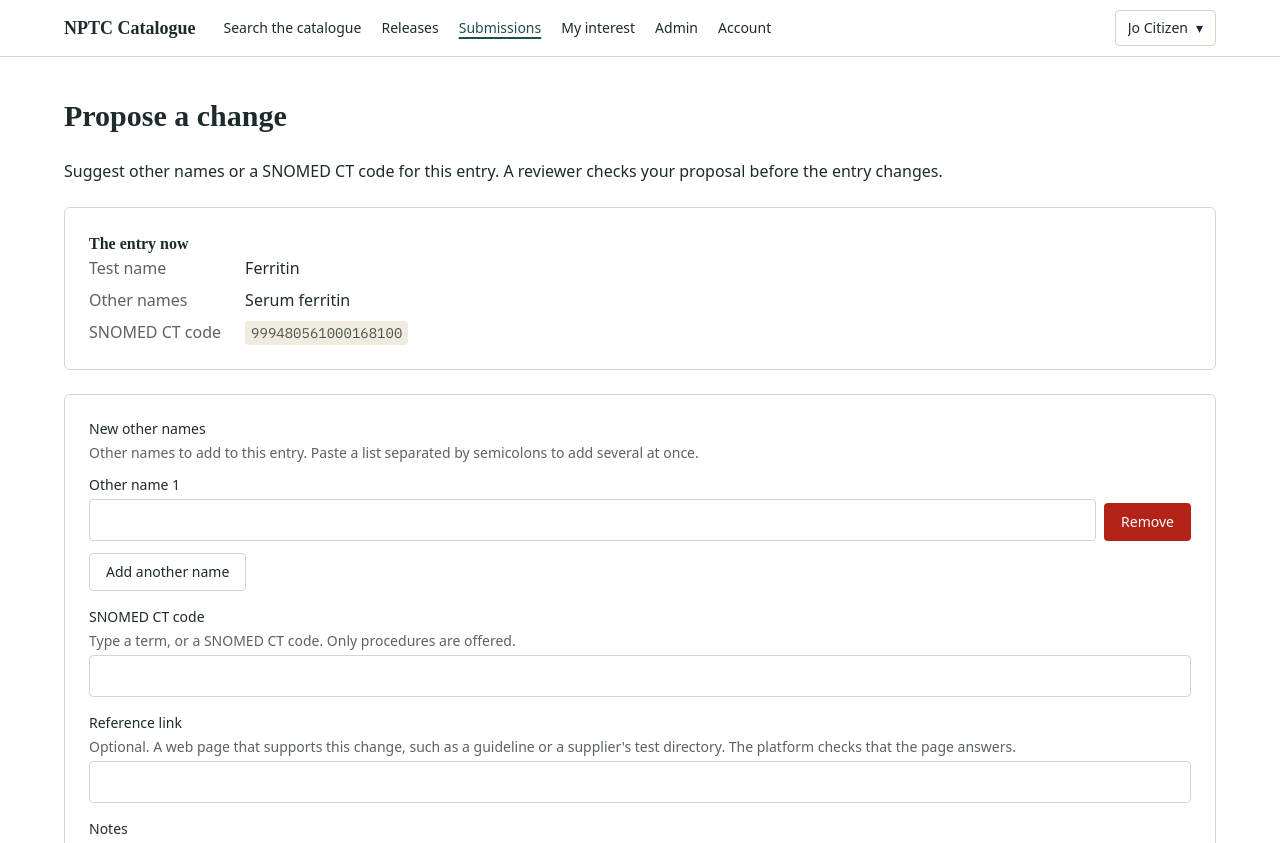
Test case: sending an amendment (FR-35) › sends the picked code as a string the terminology server named (FR-06, FR-26)
Expected: the field labelled "Other name 1" is shown, x1=89 y1=498 x2=1096 y2=540
Type "micro" into the dropdown labelled "SNOMED CT code" at (640, 676), box x1=89 y1=654 x2=1191 y2=696
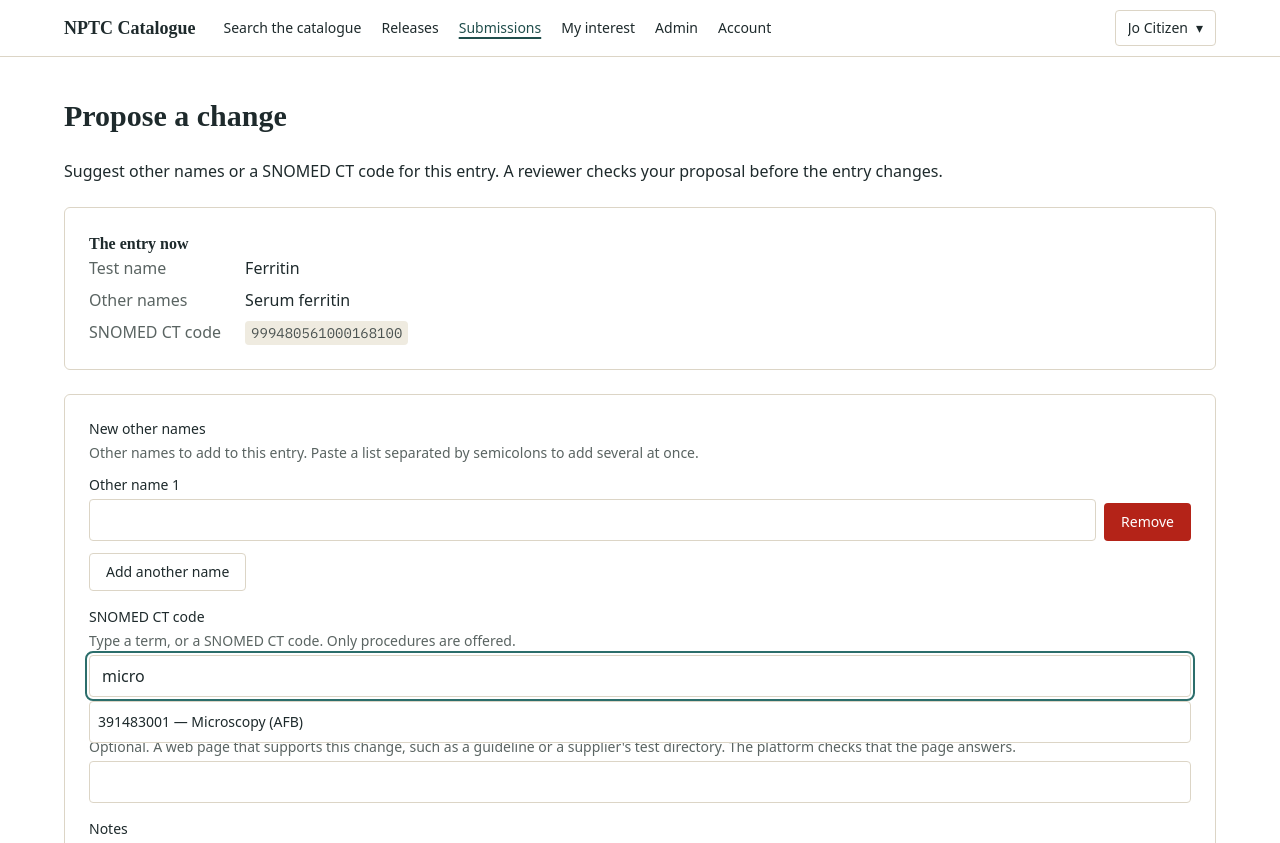
Click the option "391483001 — Microscopy (AFB)" at (201, 722), box x1=98 y1=712 x2=303 y2=731
(page scrolled)
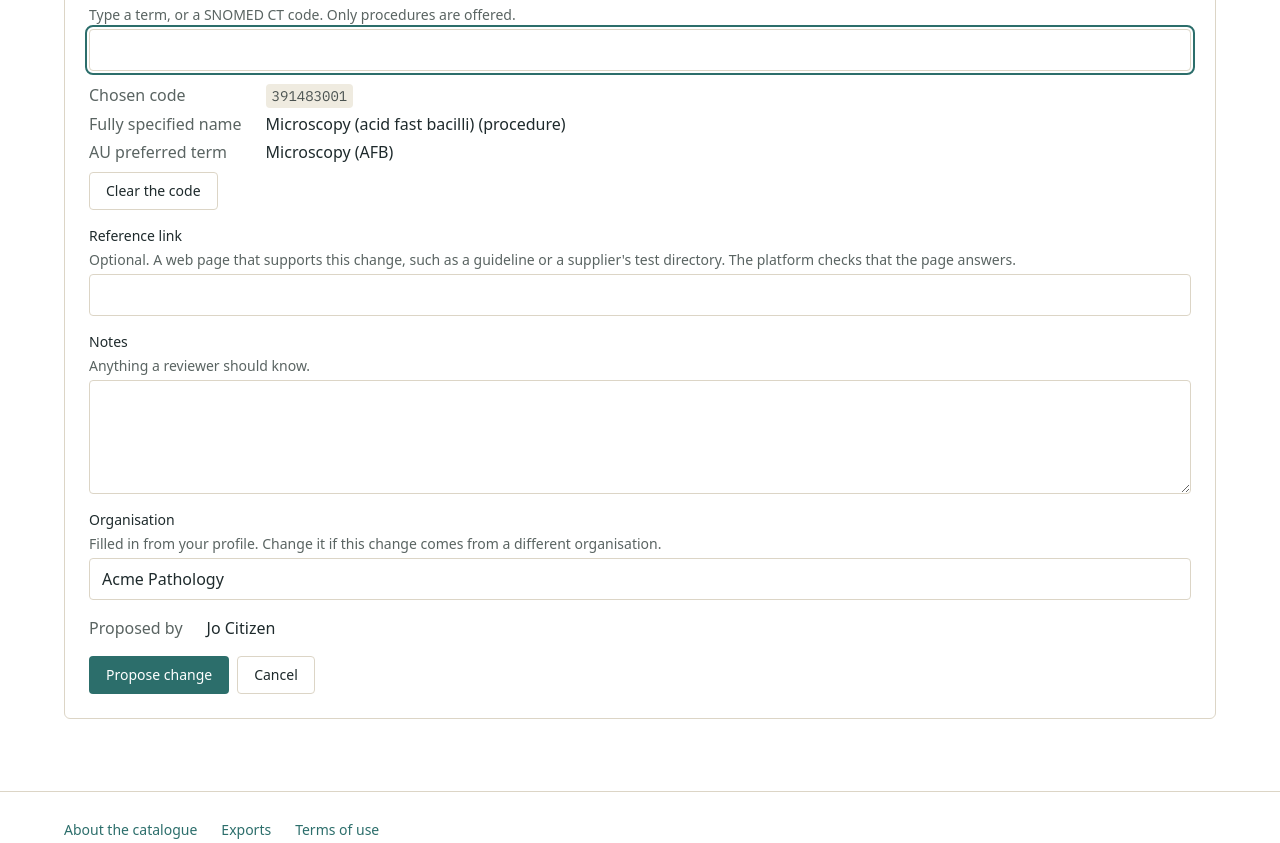
Result: the text "Microscopy (acid fast bacilli) (procedure)" is shown at x1=266 y1=112 x2=566 y2=134
Click the button "Propose change" at (159, 674), box x1=89 y1=656 x2=229 y2=694
(page scrolled)
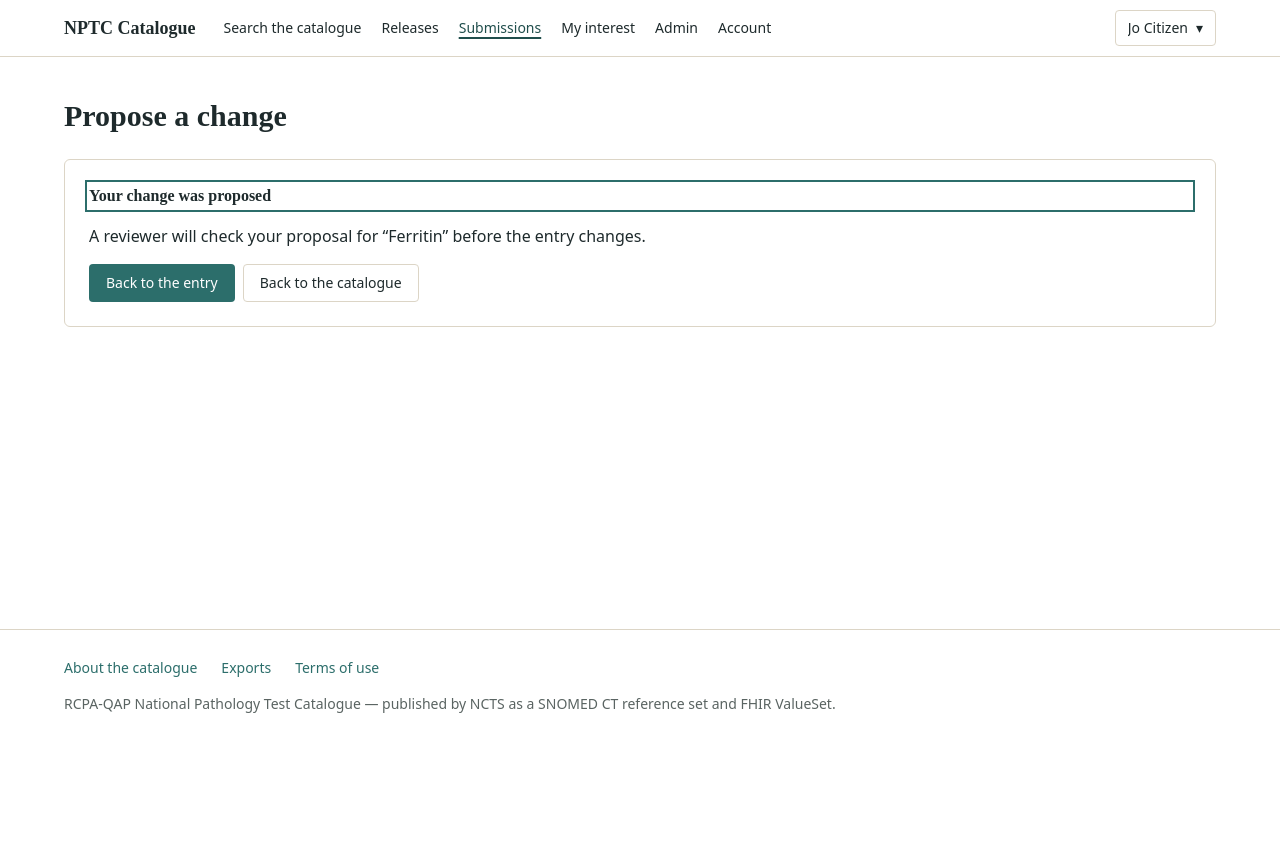
Result: the heading "Your change was proposed" is shown at x1=89 y1=186 x2=271 y2=204
